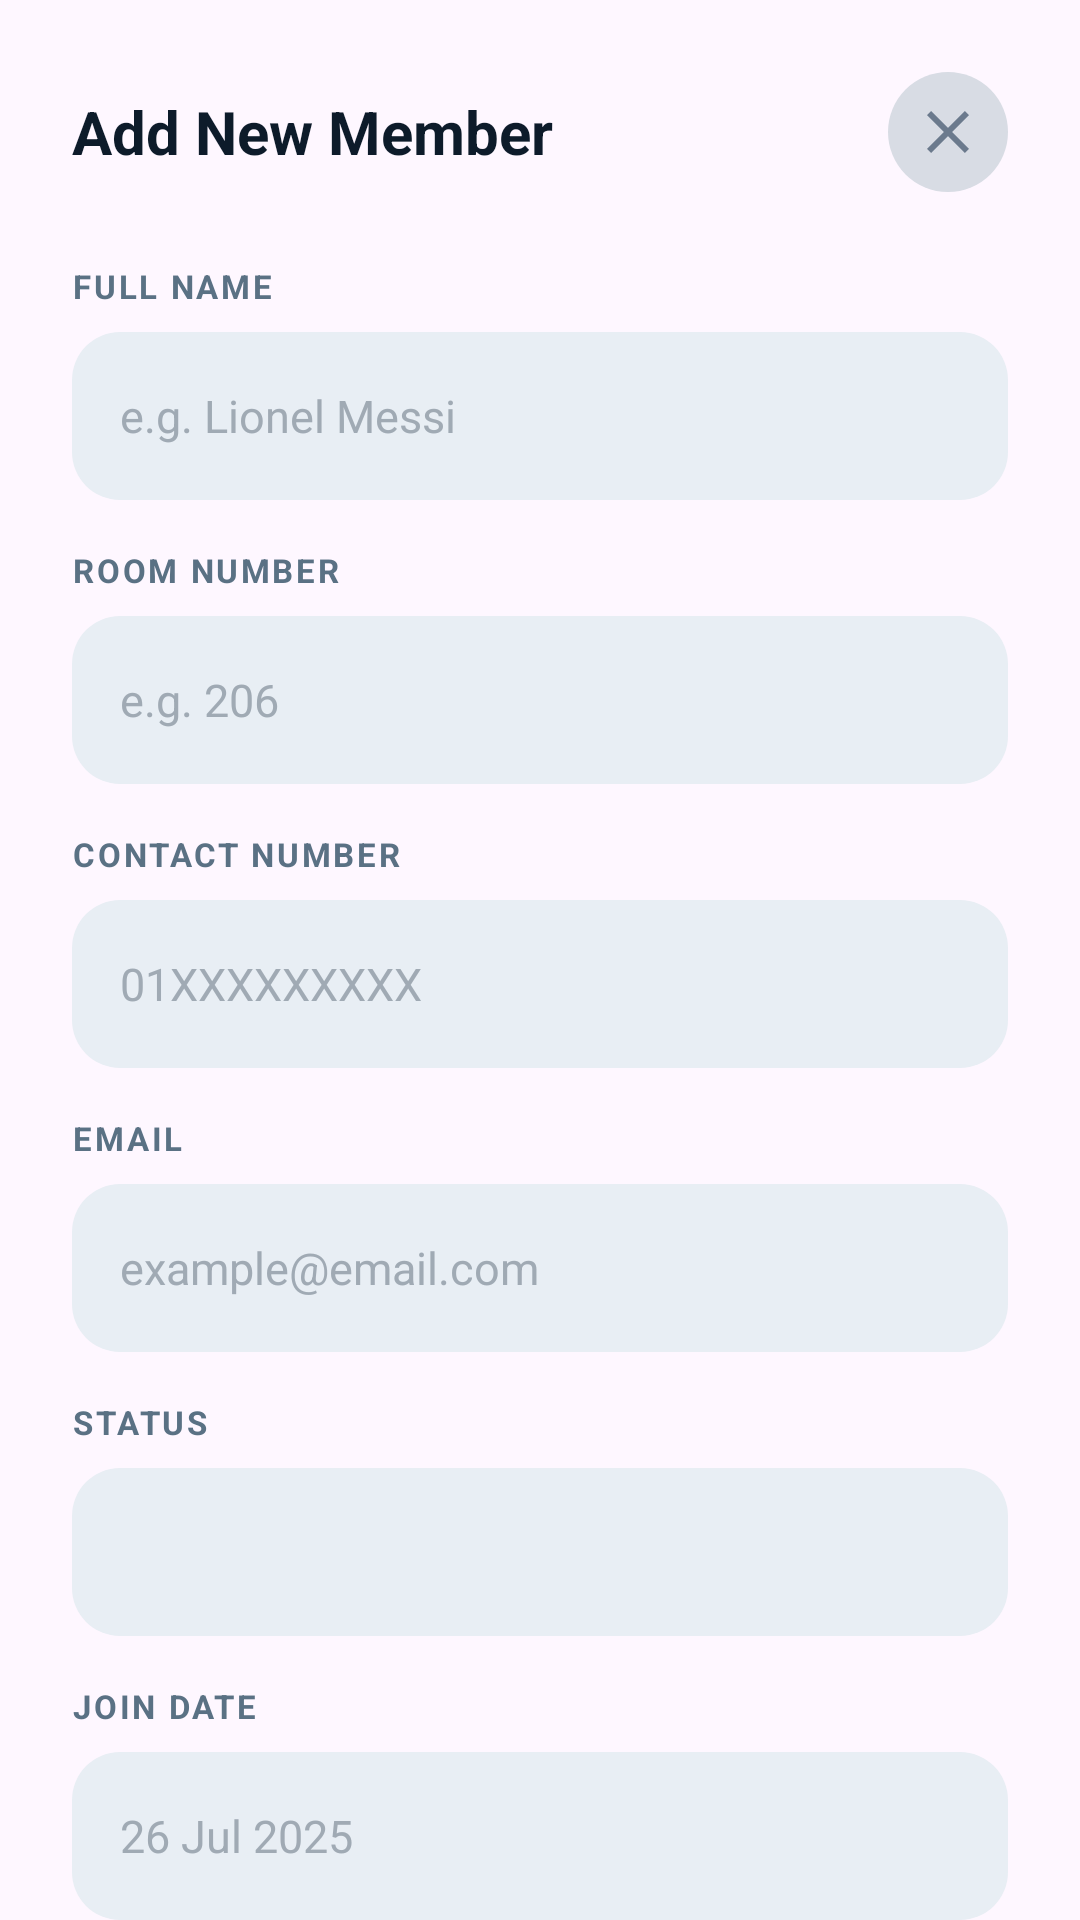

Icons on this 1080px×1920px Android screen, each with the point to tap as (x=x, y=y):
Close: (x=948, y=132)
